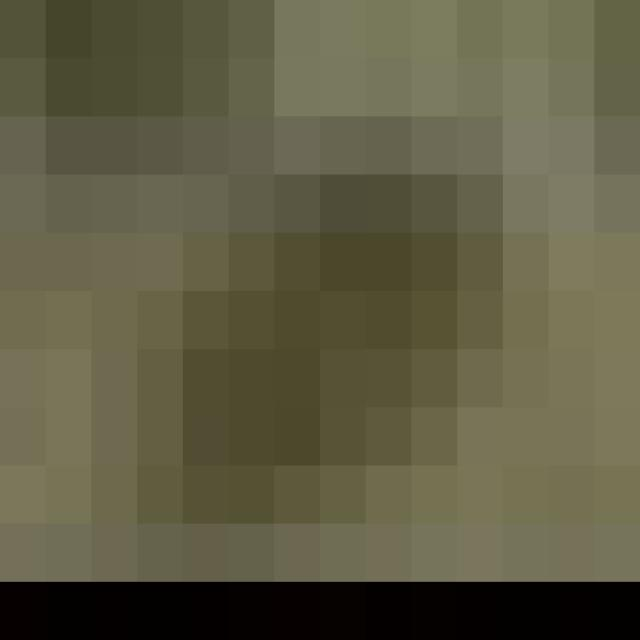.: (105, 75, 553, 518)
